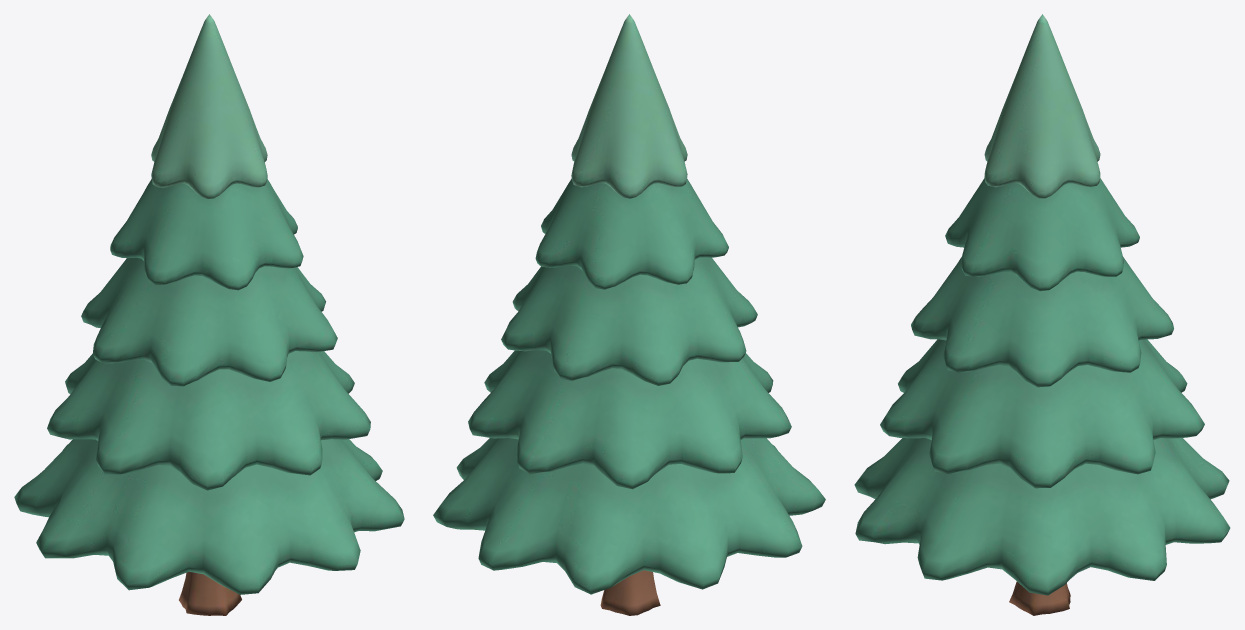
Rendered from pino.glb.
The picture shows the model from 3 angles, left to right: view 1: azimuth 30°, elevation 25°; view 2: azimuth 150°, elevation 25°; view 3: azimuth 270°, elevation 25°; orthographic projection.
Visible parts, largest first — view 1: pine-tree_body; view 2: pine-tree_body; view 3: pine-tree_body.
Part boxes in pixels (x1,y1,x2,y2): pine-tree_body: (14, 14, 404, 615); pine-tree_body: (433, 14, 825, 615); pine-tree_body: (854, 14, 1230, 615).
Size of the model in its own units: 3.45 by 5.7 by 3.3.
Materials: 1 (1 with a texture image).
